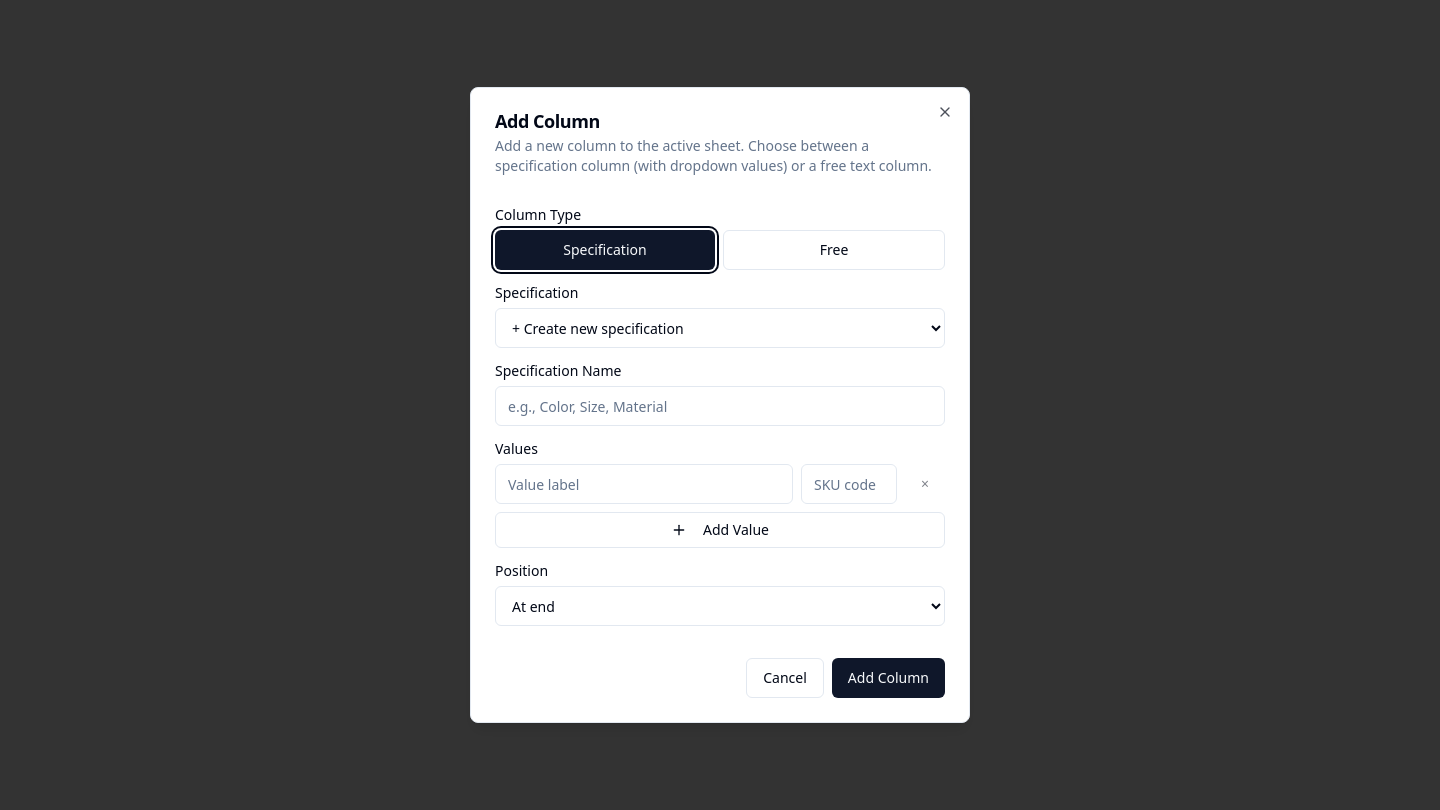
AddColumnDialog › Validation › shows error when spec name empty for new spec
# Leave spec name empty, add a value
Type "Small" into the field with test id "value-label-0". click: (644, 484)
box: [495,464,793,504]
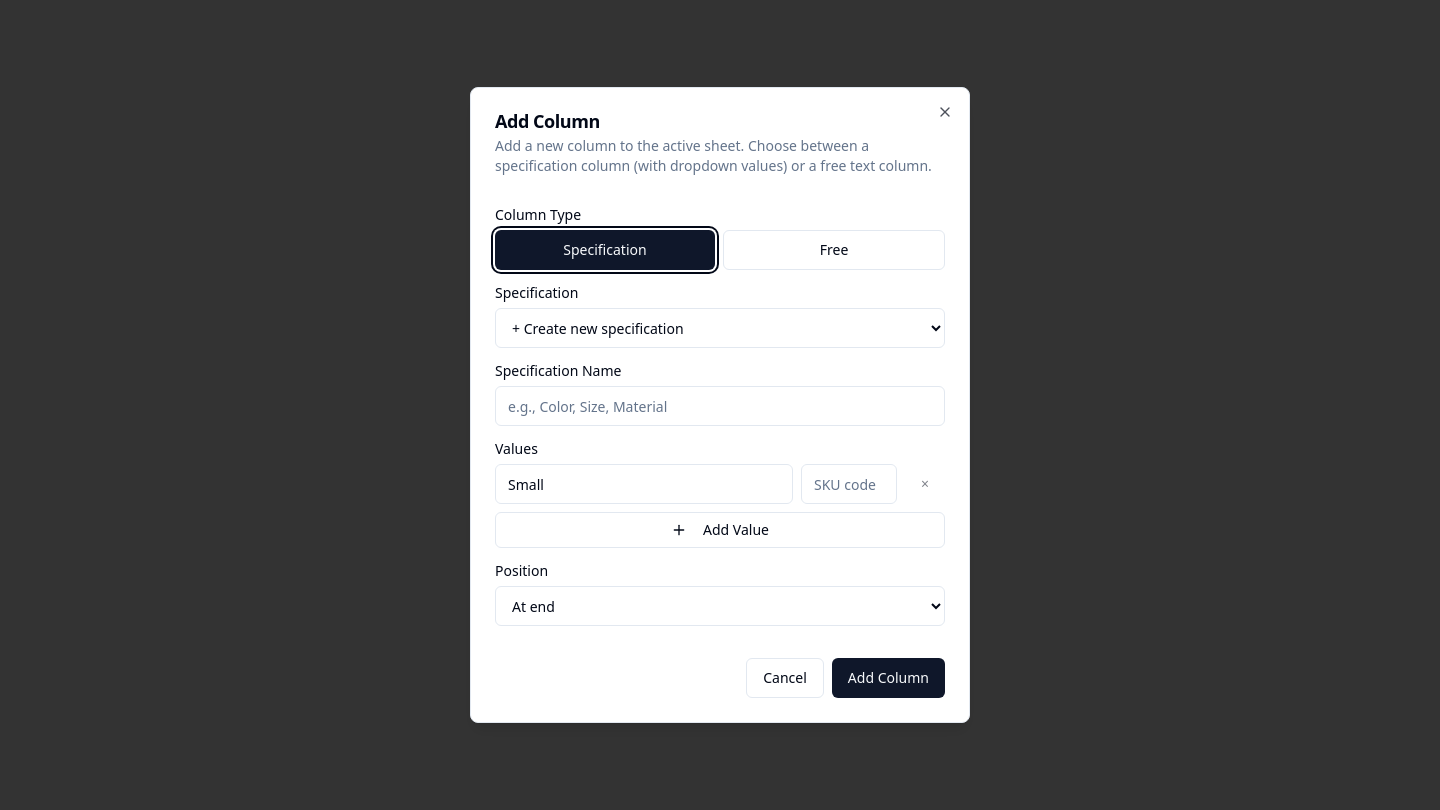
Click the button with test id "submit-button". click: (888, 678)
box: [832,658,945,698]
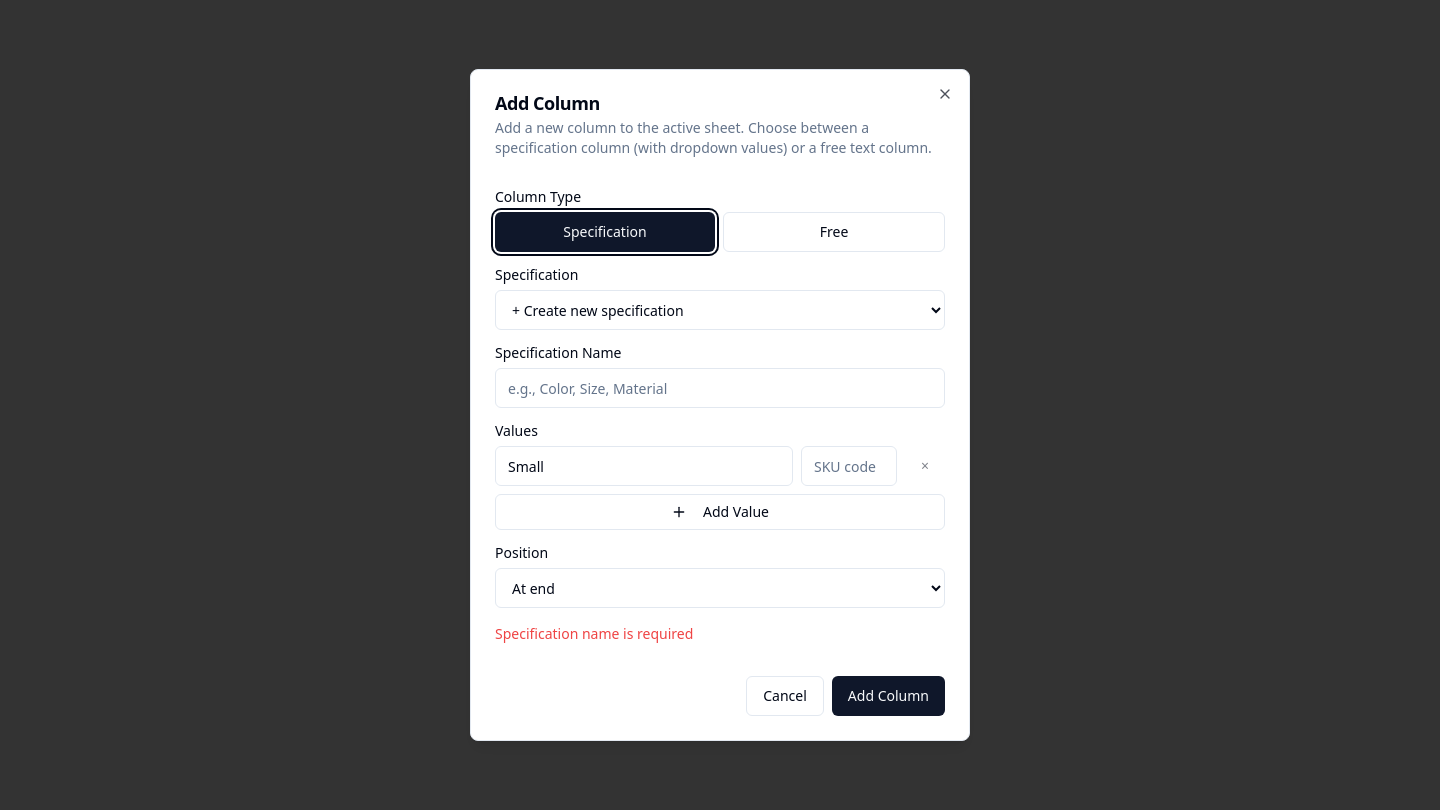
Now the message with test id "error-message" reads "Specification name is required", box [495,624,693,643]
